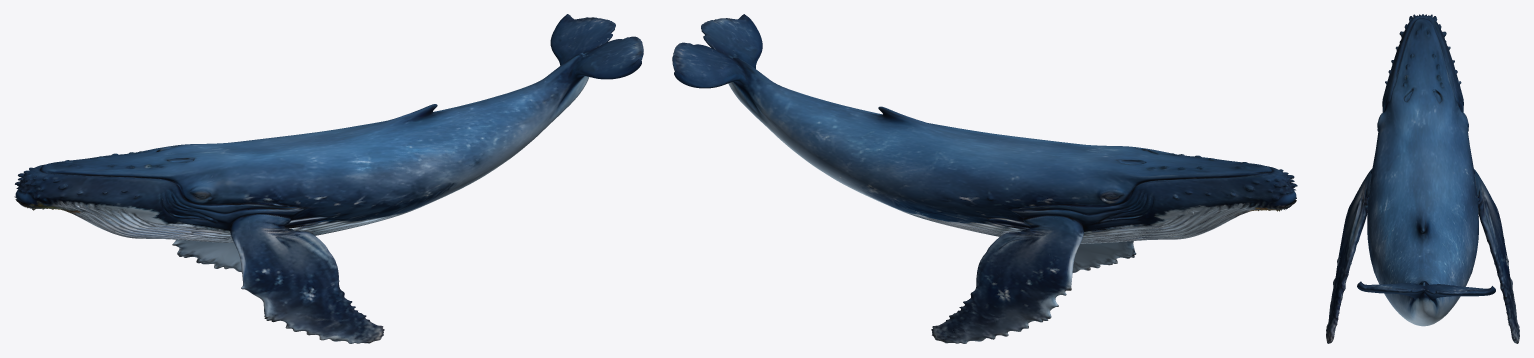
Rendered from paus biru.glb.
3 views of the same model, side by side, from view 1: azimuth 30°, elevation 25°; view 2: azimuth 150°, elevation 25°; view 3: azimuth 270°, elevation 25° (orthographic). The views are drawn at different scales.
Visible parts, largest first — view 1: material; view 2: material; view 3: material.
Boxes of the visible parts, x1,y1,x2,y2 form: material: [14, 14, 643, 343]; material: [672, 14, 1297, 343]; material: [1326, 14, 1519, 343].
Size of the model in its own units: 2 by 0.6446 by 0.5821.
Materials: 1 (1 with a texture image).
